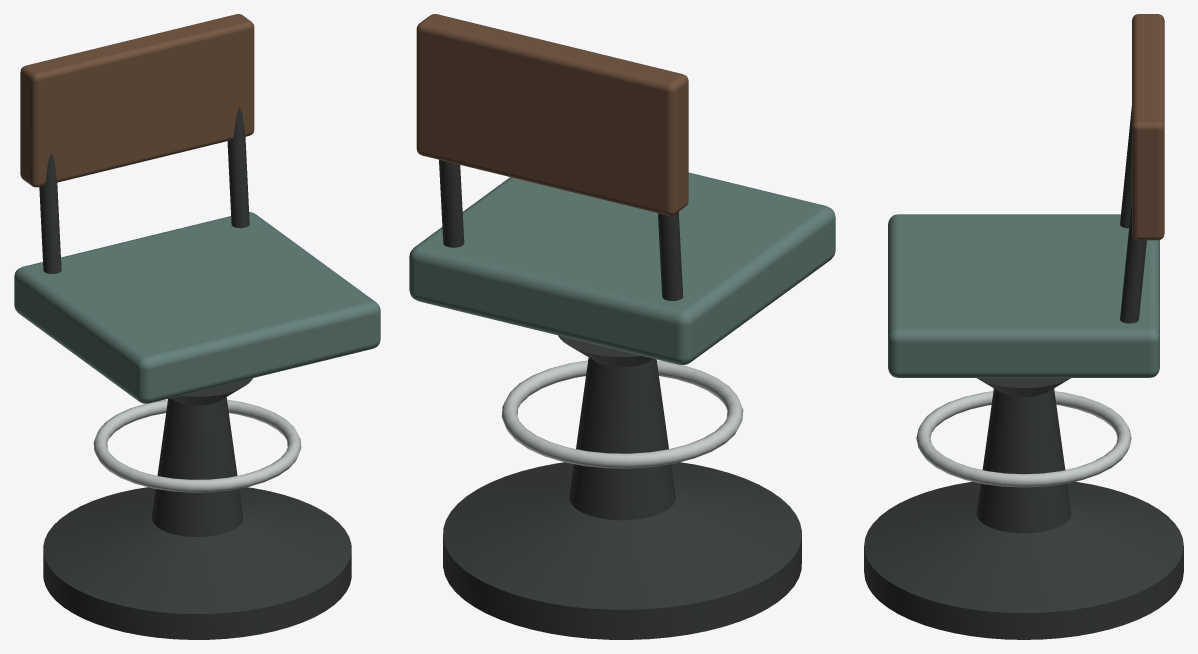
Rendered from abandoned-telephone-exchange-operator-chair-bc2cb2f2__31977.glb.
3 views of the same model, side by side, from view 1: azimuth 30°, elevation 25°; view 2: azimuth 150°, elevation 25°; view 3: azimuth 270°, elevation 25° (orthographic). The views are drawn at different scales.
Parts seen in each view (by area): view 1: operator-chair; view 2: operator-chair; view 3: operator-chair.
Boxes of the visible parts, x1,y1,x2,y2 form: operator-chair: (14,14,380,639); operator-chair: (409,14,835,639); operator-chair: (864,14,1183,639).
Size of the model in its own units: 0.54 by 0.94 by 0.54.
